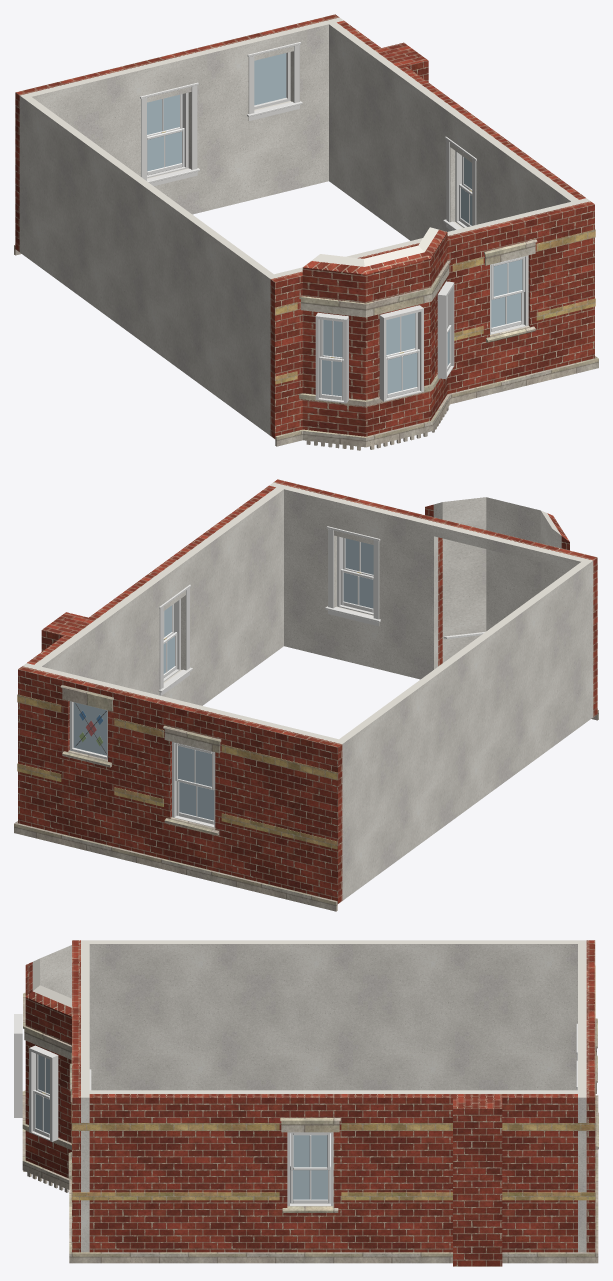
File: shell_1_r.glb
3 renders of one model, top to bottom at view 1: azimuth 30°, elevation 25°; view 2: azimuth 150°, elevation 25°; view 3: azimuth 270°, elevation 25°, orthographic.
Visible parts, largest first — view 1: shell_1_r_plaster, shell_1_r_brick, shell_1_r_glass, shell_1_r_stone_c, shell_1_r_frame, shell_1_r_trim, shell_1_r_sash, shell_1_r_brick_y; view 2: shell_1_r_plaster, shell_1_r_brick, shell_1_r_stone_c, shell_1_r_glass, shell_1_r_brick_y, shell_1_r_trim, shell_1_r_sash, shell_1_r_frame; view 3: shell_1_r_plaster, shell_1_r_brick, shell_1_r_stone_c, shell_1_r_brick_y, shell_1_r_frame, shell_1_r_glass, shell_1_r_sash.
Boxes of the visible parts, left/top/right/bottom form: shell_1_r_plaster: left=19, top=17, right=590, bottom=435; shell_1_r_brick: left=15, top=14, right=594, bottom=438; shell_1_r_glass: left=147, top=53, right=522, bottom=396; shell_1_r_stone_c: left=14, top=239, right=598, bottom=450; shell_1_r_frame: left=147, top=52, right=528, bottom=403; shell_1_r_trim: left=140, top=42, right=476, bottom=230; shell_1_r_sash: left=147, top=94, right=525, bottom=400; shell_1_r_brick_y: left=275, top=229, right=595, bottom=384; shell_1_r_plaster: left=22, top=482, right=593, bottom=900; shell_1_r_brick: left=18, top=479, right=597, bottom=903; shell_1_r_stone_c: left=14, top=685, right=598, bottom=911; shell_1_r_glass: left=73, top=538, right=373, bottom=820; shell_1_r_brick_y: left=17, top=694, right=337, bottom=849; shell_1_r_trim: left=158, top=526, right=484, bottom=695; shell_1_r_sash: left=163, top=537, right=373, bottom=824; shell_1_r_frame: left=69, top=536, right=373, bottom=827; shell_1_r_plaster: left=32, top=940, right=586, bottom=1252; shell_1_r_brick: left=25, top=940, right=595, bottom=1266; shell_1_r_stone_c: left=22, top=992, right=598, bottom=1263; shell_1_r_brick_y: left=71, top=966, right=595, bottom=1200; shell_1_r_frame: left=14, top=1014, right=333, bottom=1206; shell_1_r_glass: left=35, top=1055, right=327, bottom=1199; shell_1_r_sash: left=33, top=1054, right=330, bottom=1203.
Bounding box in the file's own units: 6.85 × 3.54 × 10.06.
Materials: 13 (4 with a texture image).
